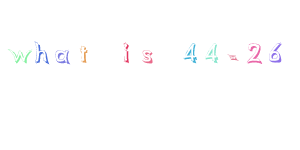-: (226, 51, 240, 63)
2: (244, 41, 264, 64)
4: (181, 42, 198, 63), (204, 42, 219, 64)
6: (267, 42, 283, 63)
a: (54, 48, 70, 65)
h: (33, 39, 51, 64)
i: (121, 40, 131, 64)
s: (141, 49, 153, 63)
t: (78, 45, 90, 64)
w: (8, 46, 32, 63)
